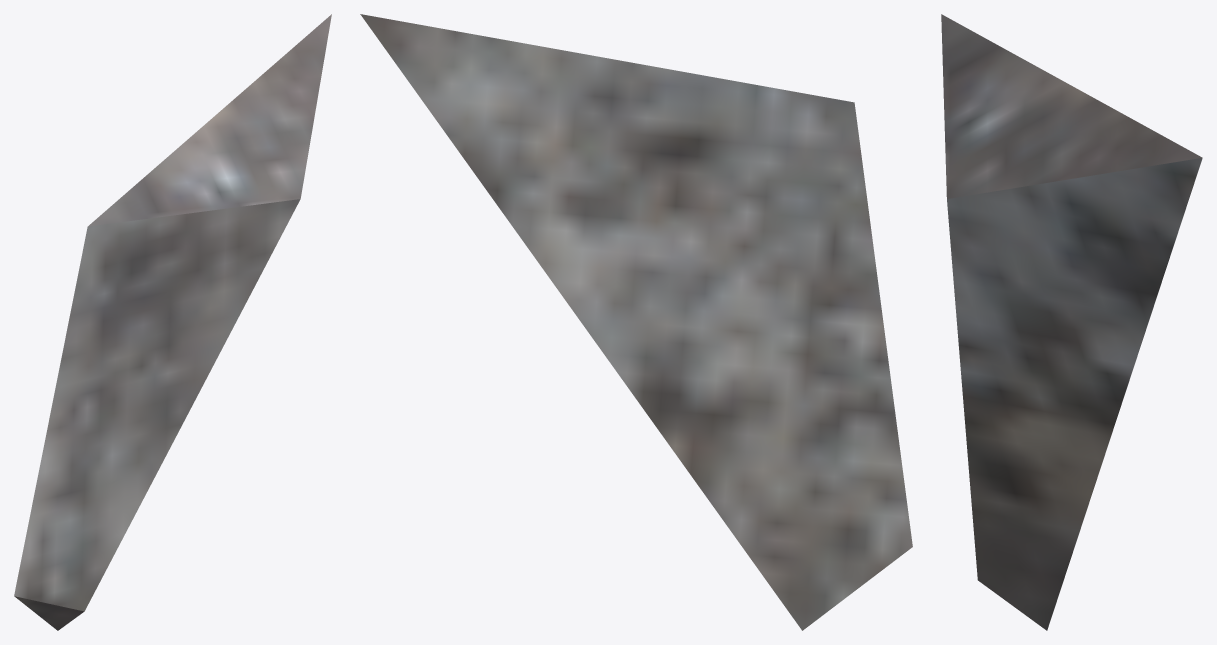
The model's file is Asteroid_Large_001_02_012_03_021.fbx.
3 renders of one model, left to right at view 1: azimuth 30°, elevation 25°; view 2: azimuth 150°, elevation 25°; view 3: azimuth 270°, elevation 25°, orthographic. The views are drawn at different scales.
Visible parts, largest first — view 1: Asteroid_Large_001_02_012_03_021; view 2: Asteroid_Large_001_02_012_03_021; view 3: Asteroid_Large_001_02_012_03_021.
Boxes of the visible parts, box(x1,y1,x2,y2) form: Asteroid_Large_001_02_012_03_021: box(14, 14, 331, 630); Asteroid_Large_001_02_012_03_021: box(360, 14, 912, 630); Asteroid_Large_001_02_012_03_021: box(941, 14, 1202, 630).
Size of the model in its own units: 1.45 by 1.72 by 0.5821.
